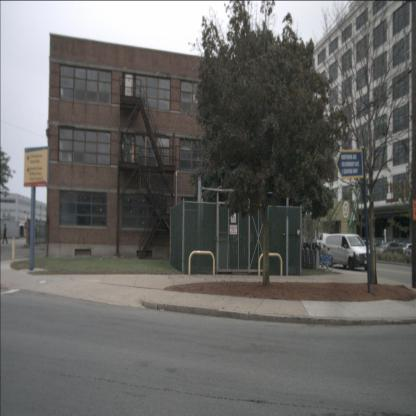human-pedestrian-adult: (2, 224, 8, 244)
vehicle-car: (325, 233, 373, 272), (378, 242, 403, 260), (316, 232, 338, 252), (404, 244, 416, 261)
